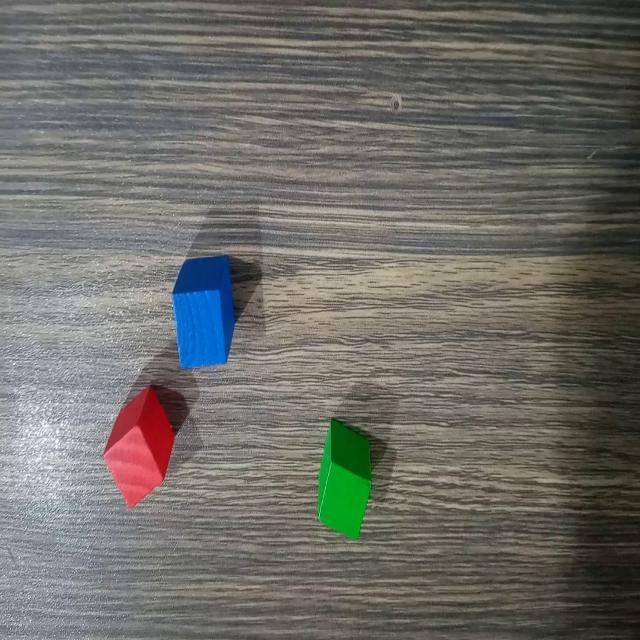cube: (101, 383, 176, 513), (168, 255, 239, 371), (315, 416, 376, 543)
